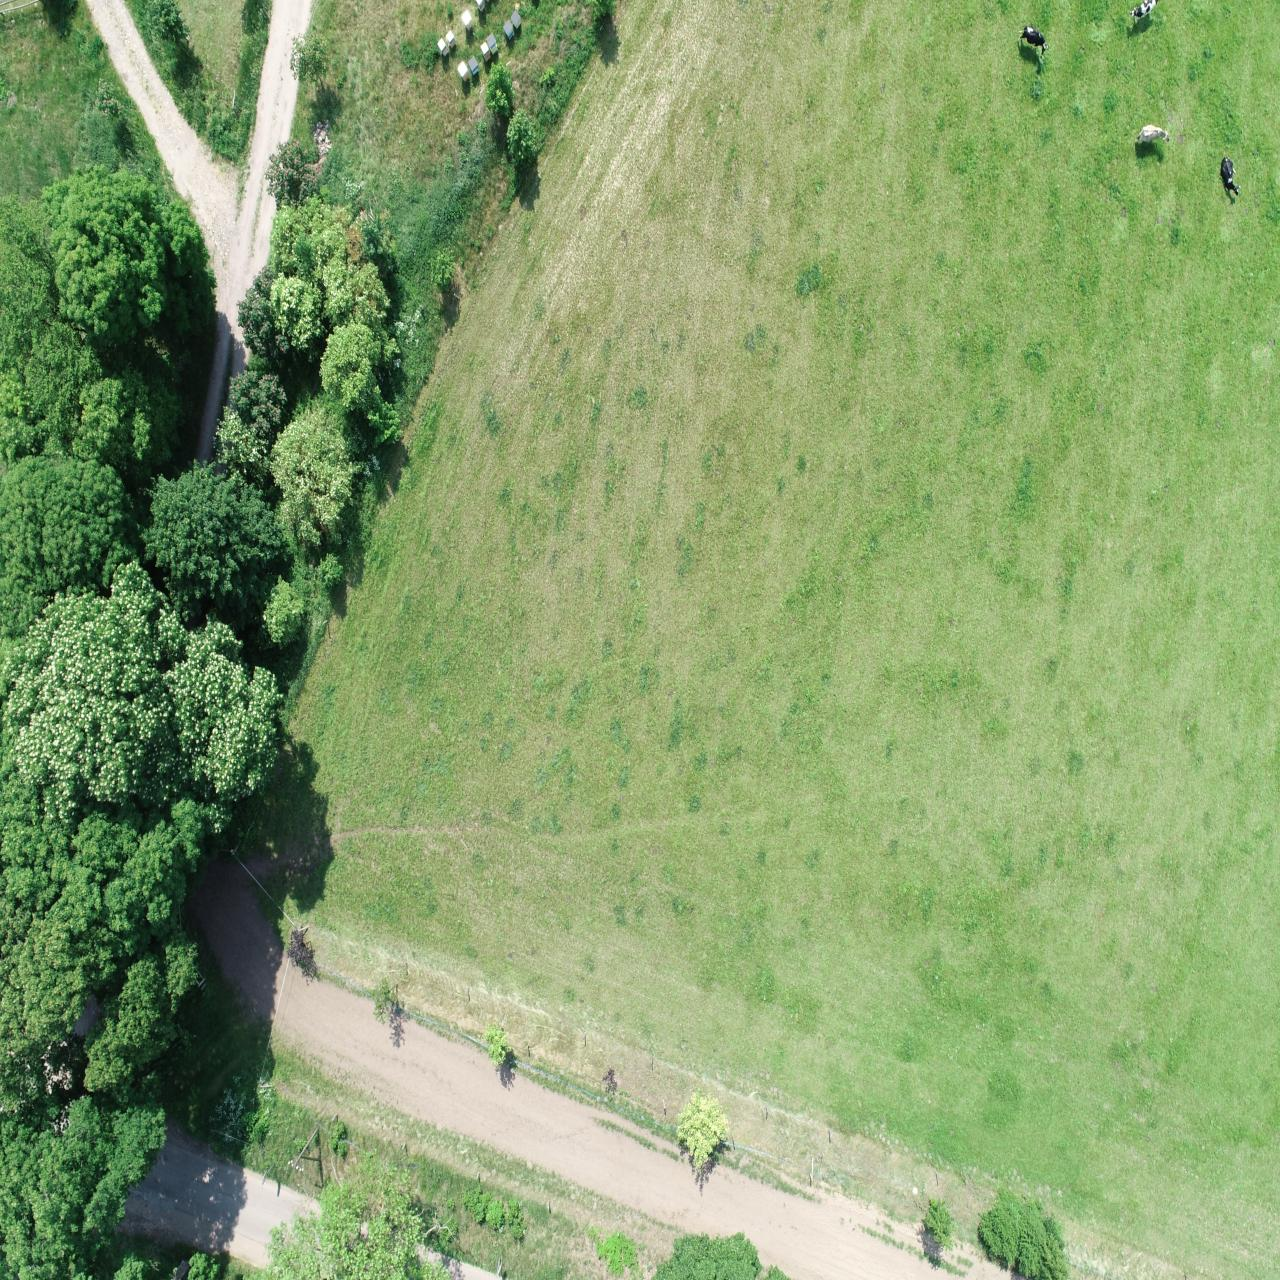cow: (1220, 154, 1241, 196), (1018, 25, 1047, 55), (1135, 122, 1171, 144), (1128, 0, 1164, 20)
